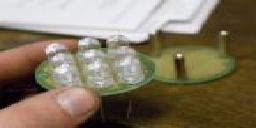LED: (39, 35, 148, 89)
